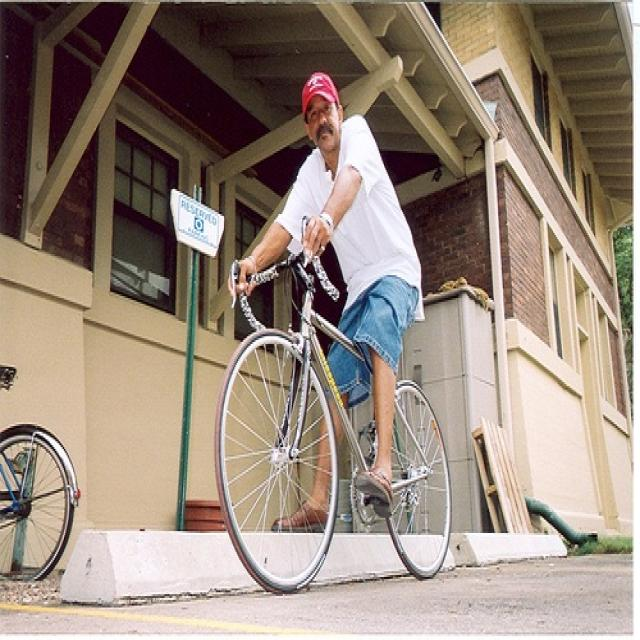bicycle: (213, 212, 453, 594), (0, 422, 81, 588)
